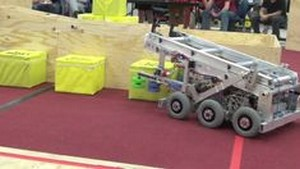cube: (52, 55, 109, 95)
